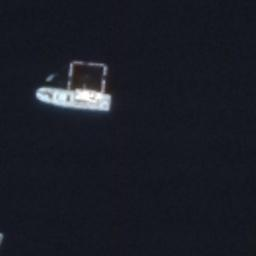square_solid: (63, 57, 113, 100)
